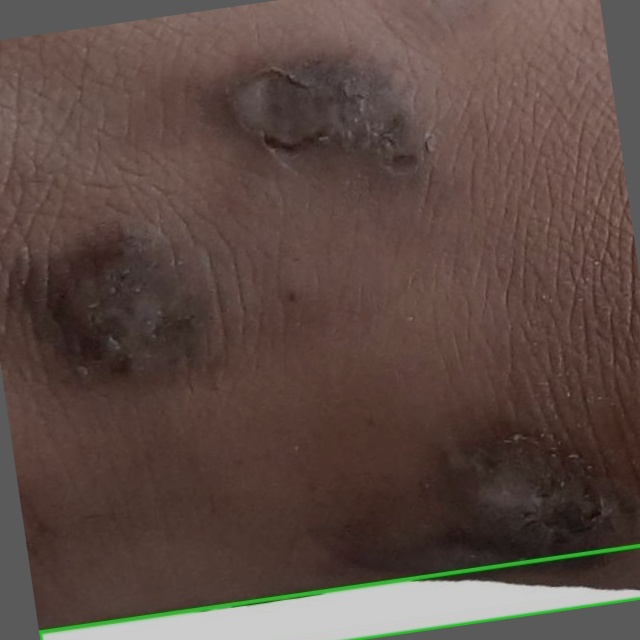Contact Dermatitis: (39, 545, 639, 639)
